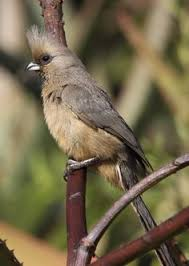target: (18, 22, 170, 260)
